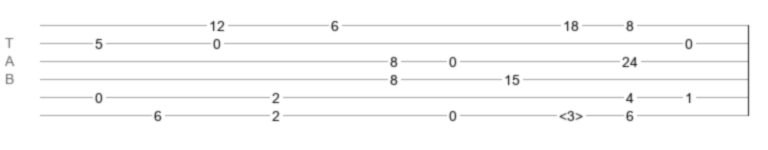0: (95, 90, 103, 100), (213, 36, 221, 46), (449, 54, 457, 64), (449, 108, 457, 118), (685, 36, 693, 46)
1: (685, 90, 693, 100)
12: (209, 18, 225, 28)
15: (504, 72, 520, 82)
18: (563, 18, 579, 28)
2: (272, 90, 280, 100), (272, 108, 280, 118)
24: (622, 54, 638, 64)
4: (626, 90, 634, 100)
5: (95, 36, 103, 46)
6: (154, 108, 162, 118), (331, 18, 339, 28), (626, 108, 634, 118)
8: (390, 72, 398, 82), (390, 54, 398, 64), (626, 18, 634, 28)
harmonic: (559, 108, 583, 118)
